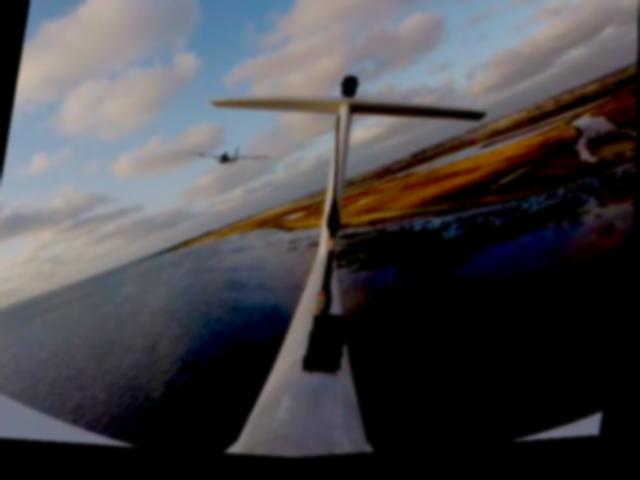uav: (177, 137, 279, 188)
